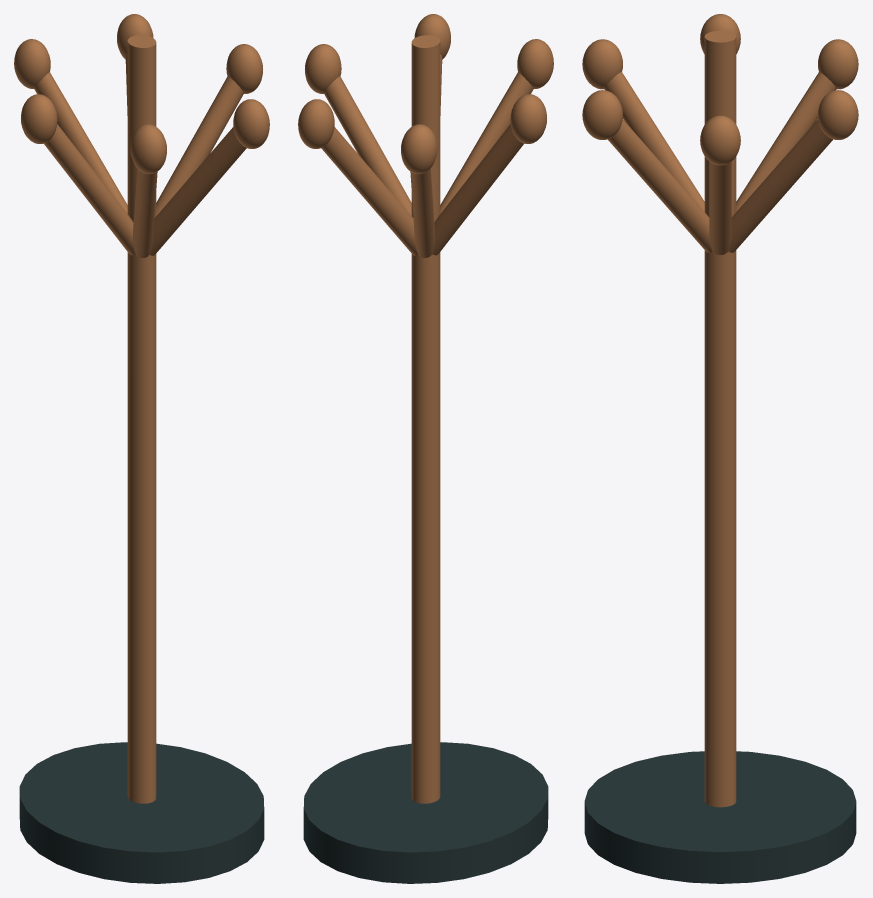
The model's file is wp-porte-manteau.glb.
3 renders of one model, left to right at view 1: azimuth 30°, elevation 25°; view 2: azimuth 150°, elevation 25°; view 3: azimuth 270°, elevation 25°, orthographic.
Visible parts, largest first — view 1: wp-porte-manteau; view 2: wp-porte-manteau; view 3: wp-porte-manteau.
Boxes of the visible parts, bbox=[...] form: wp-porte-manteau: bbox=[14, 14, 269, 883]; wp-porte-manteau: bbox=[298, 14, 553, 883]; wp-porte-manteau: bbox=[582, 14, 858, 883].
Size of the model in its own units: 0.55 by 1.75 by 0.55.
